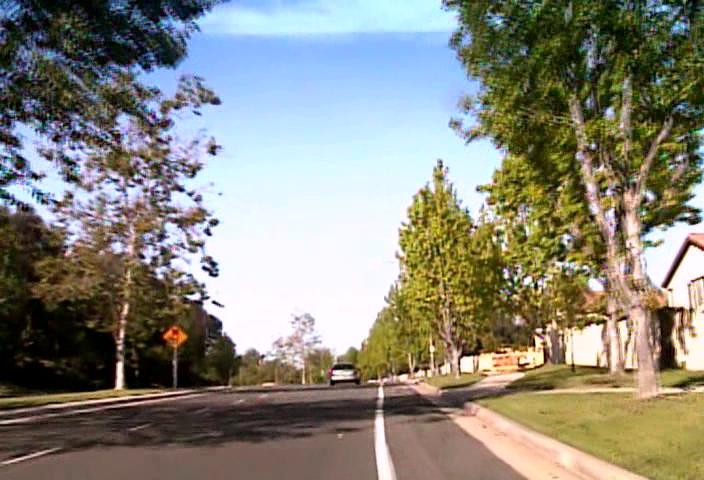signalAhead: (161, 322, 189, 348)
